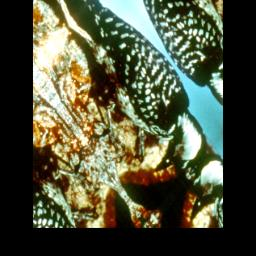Woodpecker: (38, 0, 221, 221)
